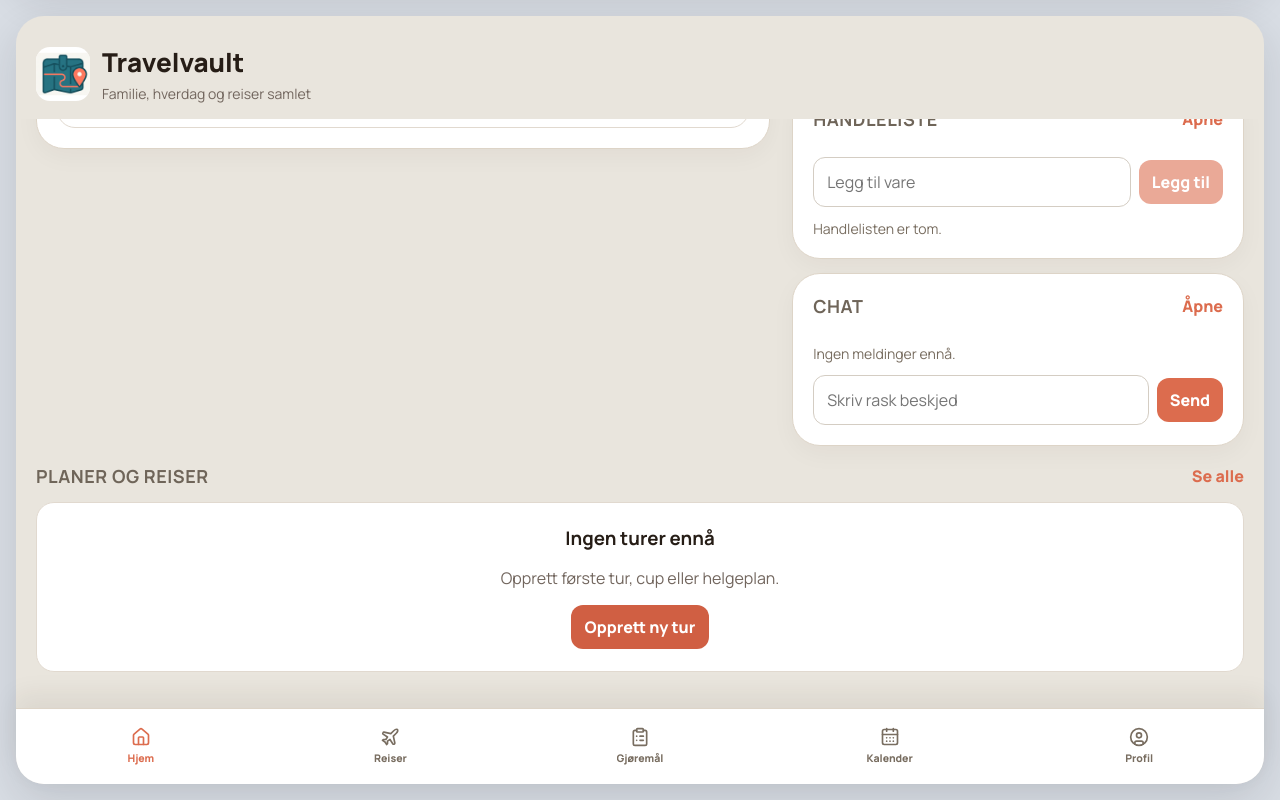
Travelvault testmodus › validerer at lengde må fylles ut
This screenshot has width=1280, height=800.
(page scrolled)
Click the button "Opprett ny tur": click(640, 627) [571,605,709,649]
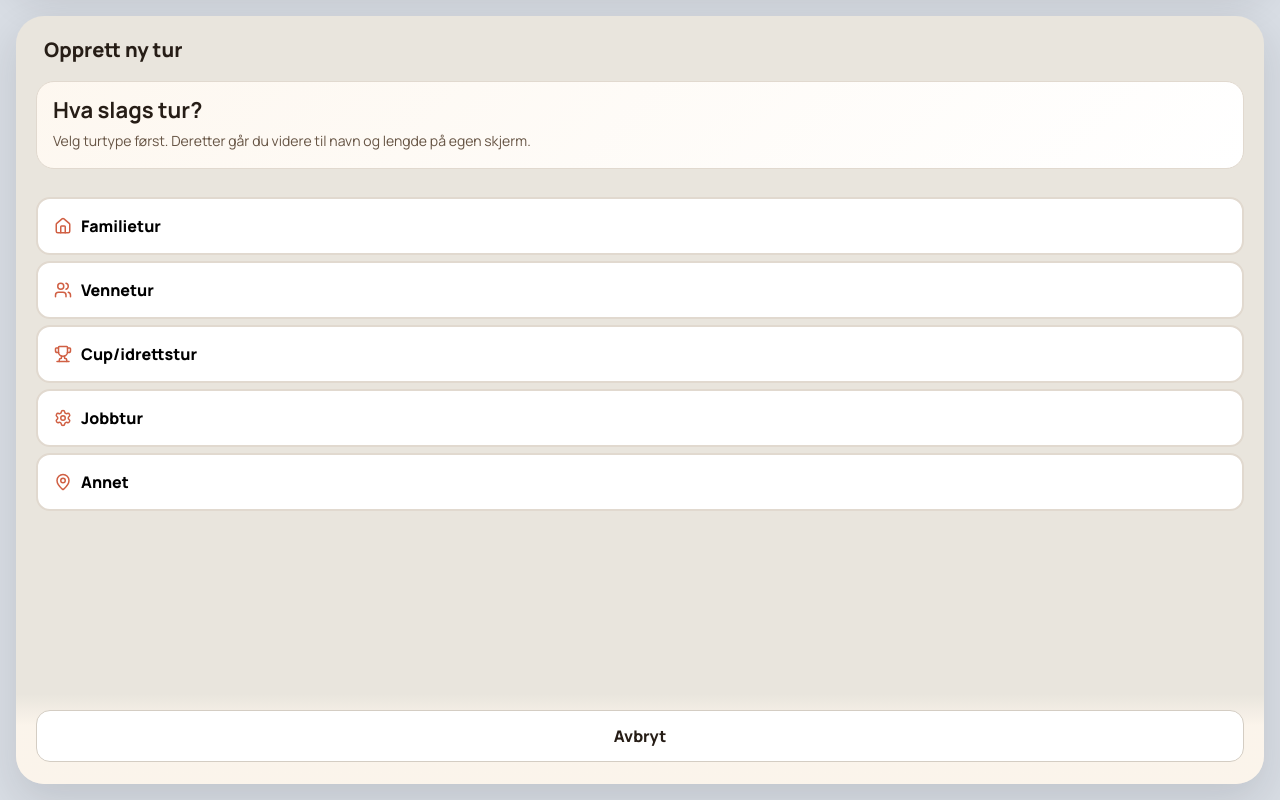
Click the button "Familietur": click(121, 226) [36,197,1244,255]
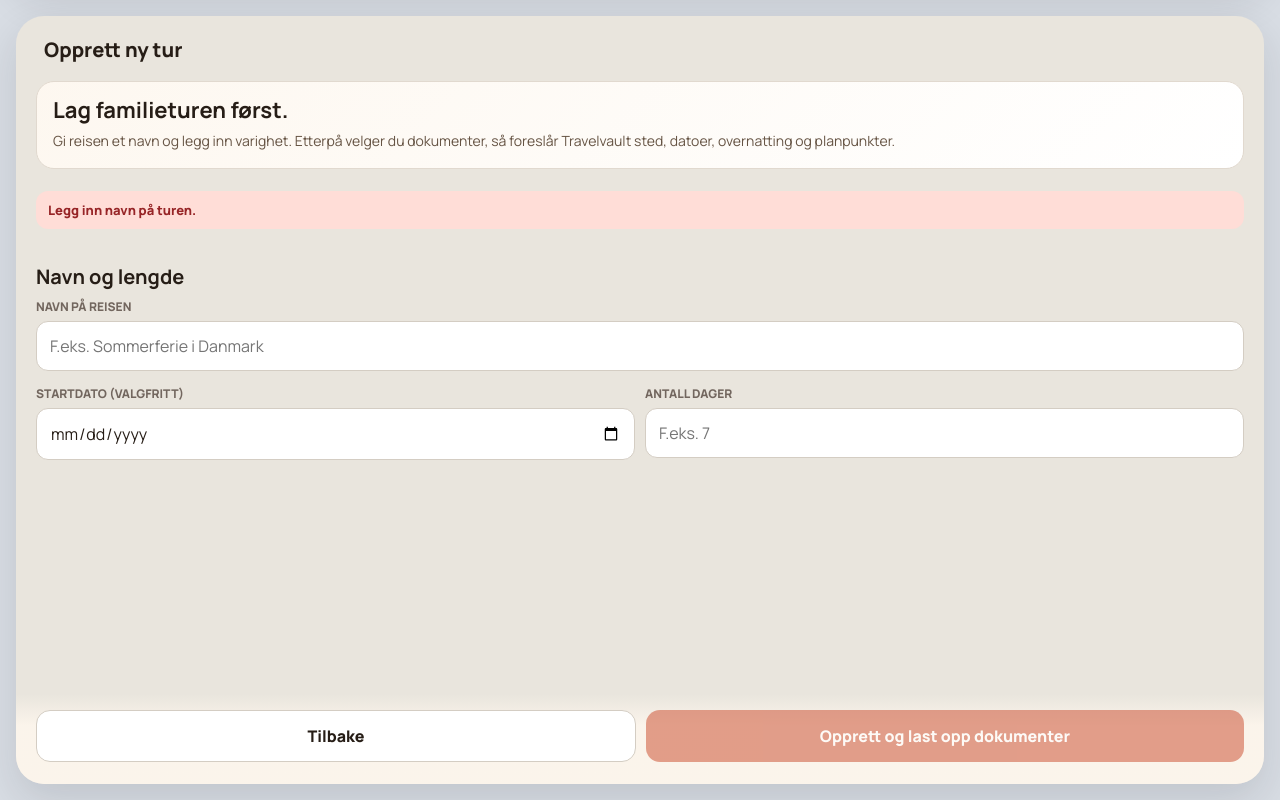
In the field with placeholder "F.eks. Sommerferie i Danmark": (640, 346) [36,321,1244,371], type "Datotest"
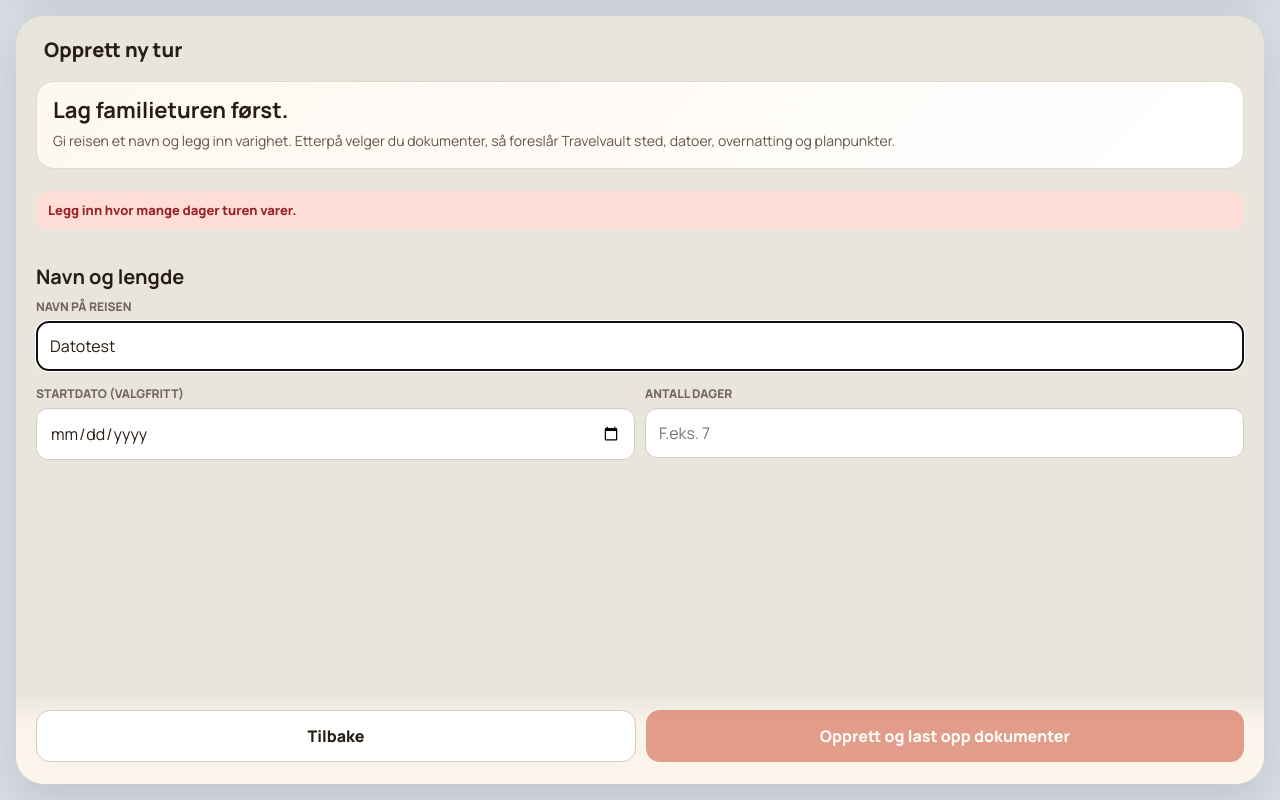
Result: the button "Opprett og last opp dokumenter" is disabled at [646,710,1244,762]
Result: the text "Legg inn hvor mange dager turen varer." is shown at [36,191,1244,229]
